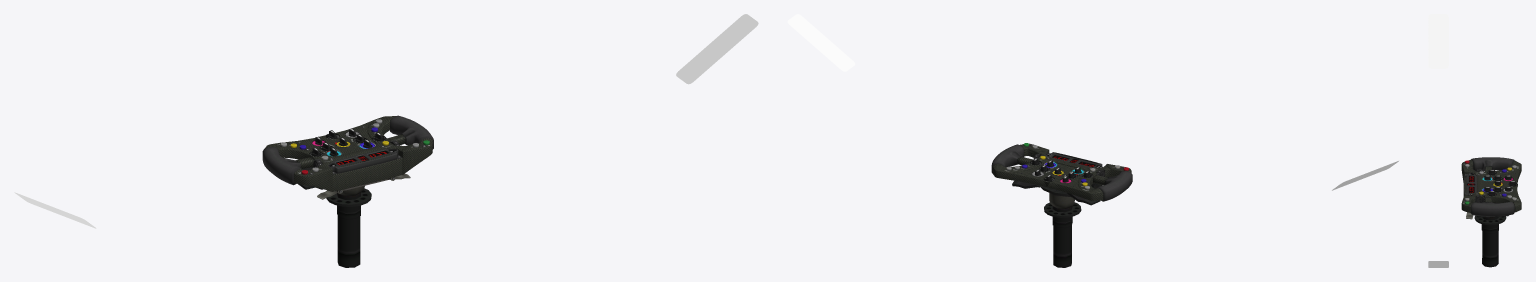
File: Wheel.obj
3 renders of one model, left to right at view 1: azimuth 30°, elevation 25°; view 2: azimuth 150°, elevation 25°; view 3: azimuth 270°, elevation 25°, orthographic. The views are drawn at different scales.
Parts seen in each view (by area): view 1: object__11, object_0, object_9; view 2: object__11, object_0; view 3: object__11, object_1, object_9, object_0.
Boxes of the visible parts, box(x1,y1,x2,y2) form: object__11: box(262, 115, 433, 267); object_0: box(676, 14, 758, 84); object_9: box(328, 148, 401, 174); object__11: box(991, 143, 1132, 267); object_0: box(787, 14, 855, 71); object__11: box(1461, 157, 1521, 267); object_1: box(1428, 14, 1448, 68); object_9: box(1464, 172, 1476, 195); object_0: box(1428, 261, 1448, 267).
Size of what is drawn, in the model's own units: 1.39 by 0.3309 by 0.2217.
6 materials, 5 textured.
